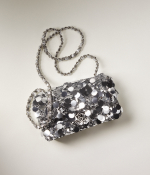channel: (24, 58, 131, 141), (30, 21, 98, 82), (44, 77, 55, 130)
